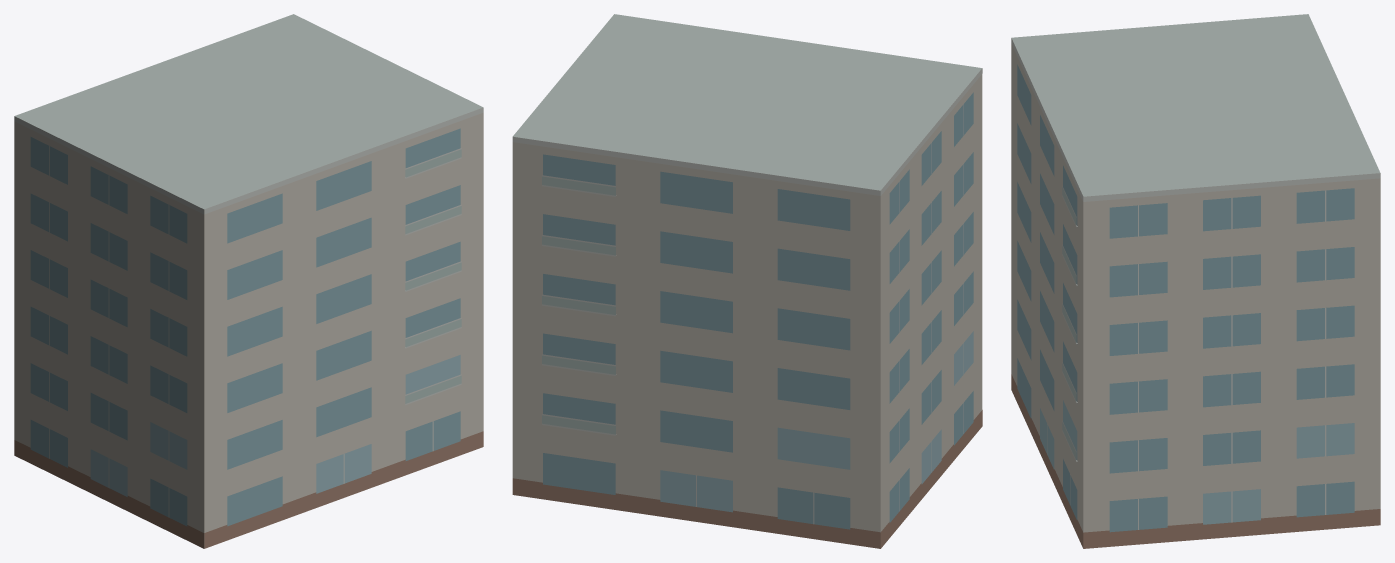
Rendered from survey-upis-32956485.glb.
3 views of the same model, side by side, from view 1: azimuth 30°, elevation 25°; view 2: azimuth 150°, elevation 25°; view 3: azimuth 270°, elevation 25° (orthographic). The views are drawn at different scales.
Parts seen in each view (by area): view 1: survey-upis-32956485.tmp; view 2: survey-upis-32956485.tmp; view 3: survey-upis-32956485.tmp.
Part boxes in pixels (x1,y1,x2,y2): survey-upis-32956485.tmp: (14,14,483,548); survey-upis-32956485.tmp: (512,14,982,548); survey-upis-32956485.tmp: (1011,14,1380,548).
Bounding box in the file's own units: 18.04 × 16.2 × 15.4.
